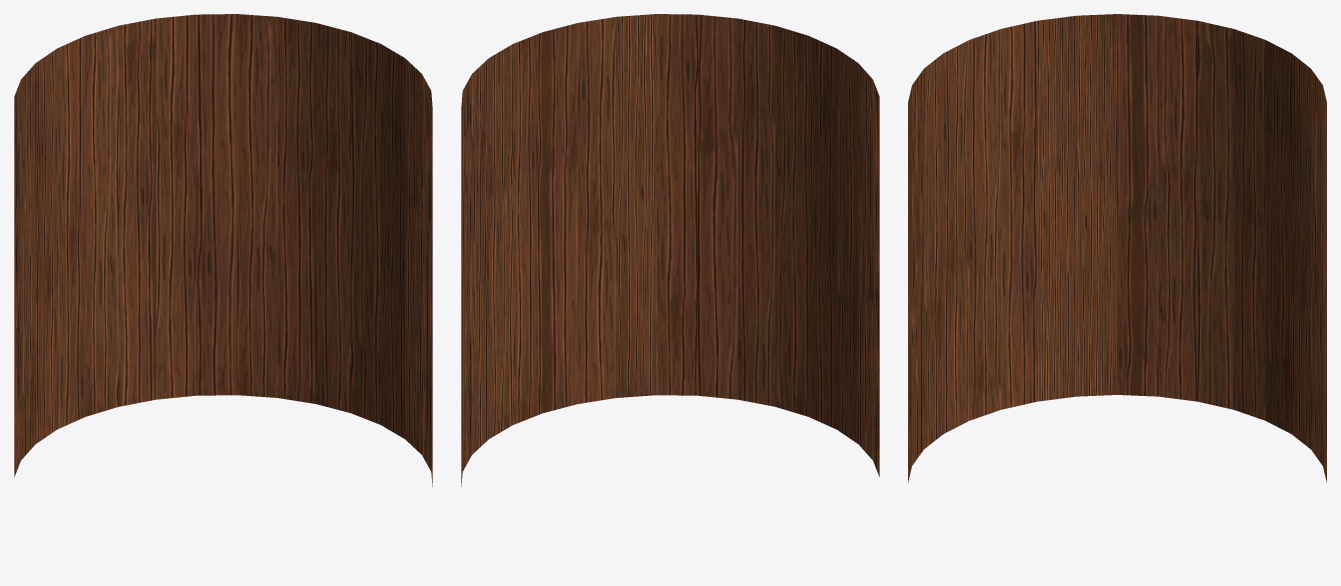
File: Wall.glb
3 renders of one model, left to right at view 1: azimuth 30°, elevation 25°; view 2: azimuth 150°, elevation 25°; view 3: azimuth 270°, elevation 25°, orthographic.
Visible parts, largest first — view 1: Cylinder; view 2: Cylinder; view 3: Cylinder.
Boxes of the visible parts, left/top/right/bottom form: Cylinder: left=14, top=14, right=432, bottom=486; Cylinder: left=461, top=14, right=879, bottom=486; Cylinder: left=908, top=14, right=1326, bottom=482.
Size of the model in its own units: 19.99 by 20.06 by 19.99.
Materials: 1 (1 with a texture image).
